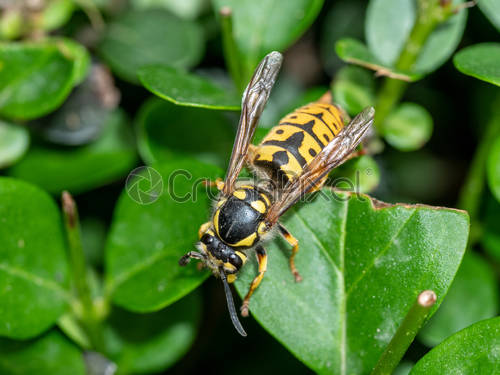chax: (150, 46, 414, 338)
